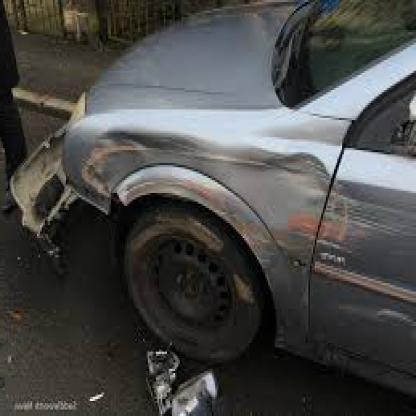dent: (80, 126, 135, 191), (268, 149, 331, 203)
